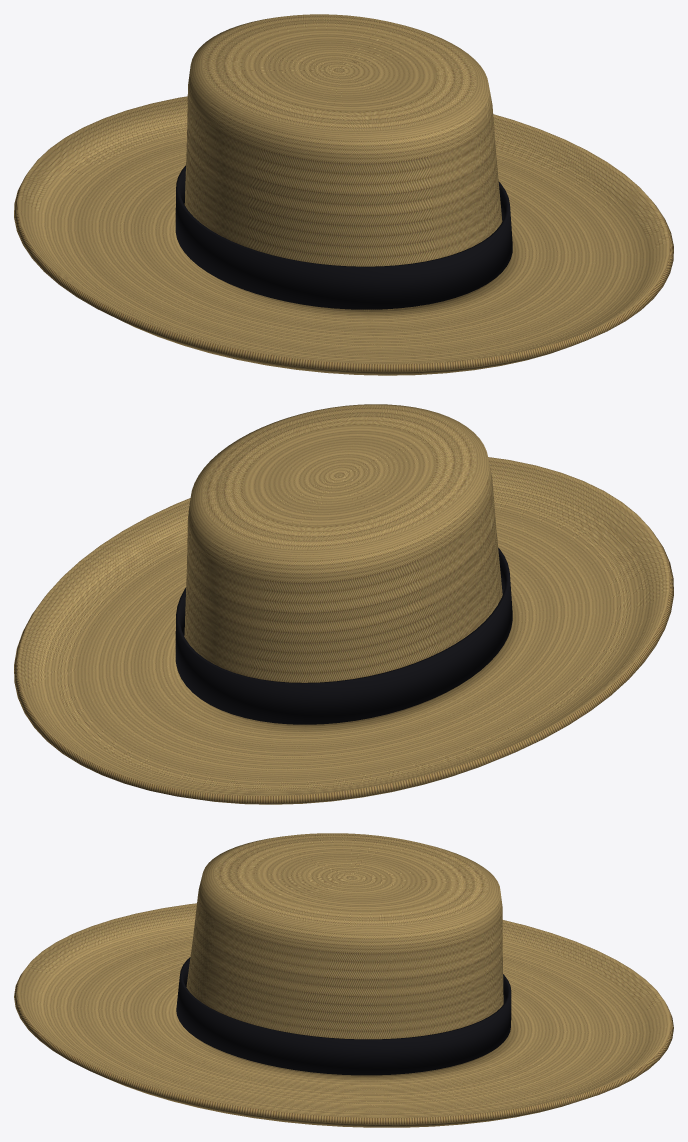
File: HH-AM01-HAT.glb
3 renders of one model, top to bottom at view 1: azimuth 30°, elevation 25°; view 2: azimuth 150°, elevation 25°; view 3: azimuth 270°, elevation 25°, orthographic. The views are drawn at different scales.
Visible parts, largest first — view 1: HH-AM01-HAT.001; view 2: HH-AM01-HAT.001; view 3: HH-AM01-HAT.001.
Boxes of the visible parts, x1=… form: HH-AM01-HAT.001: x1=14, y1=14, x2=673, y2=375; HH-AM01-HAT.001: x1=14, y1=404, x2=673, y2=804; HH-AM01-HAT.001: x1=14, y1=833, x2=673, y2=1127.
Size of the model in its own units: 0.3324 by 0.1169 by 0.4184.
Materials: 2 (1 with a texture image).
